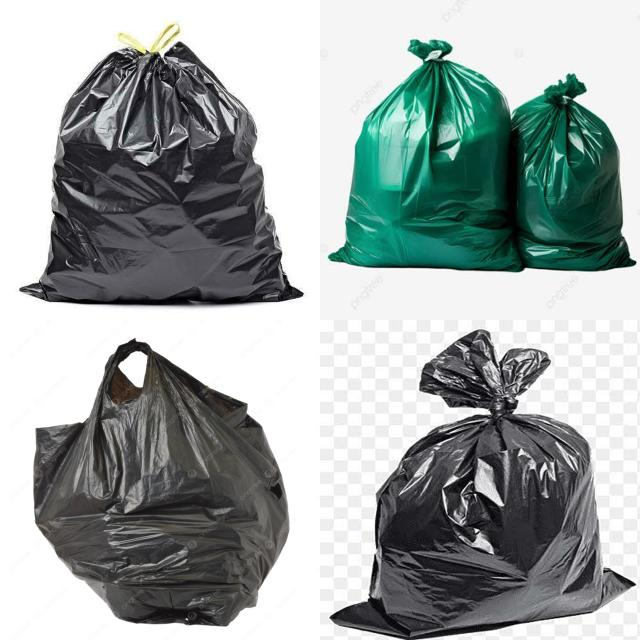Single-layer Plastic: (332, 331, 631, 640), (34, 340, 289, 625), (22, 42, 301, 302), (329, 40, 522, 271), (511, 74, 635, 271)
